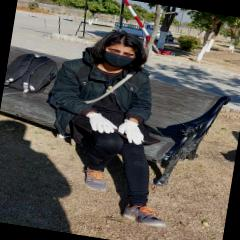gloved: (84, 111, 118, 136), (118, 120, 147, 146)
